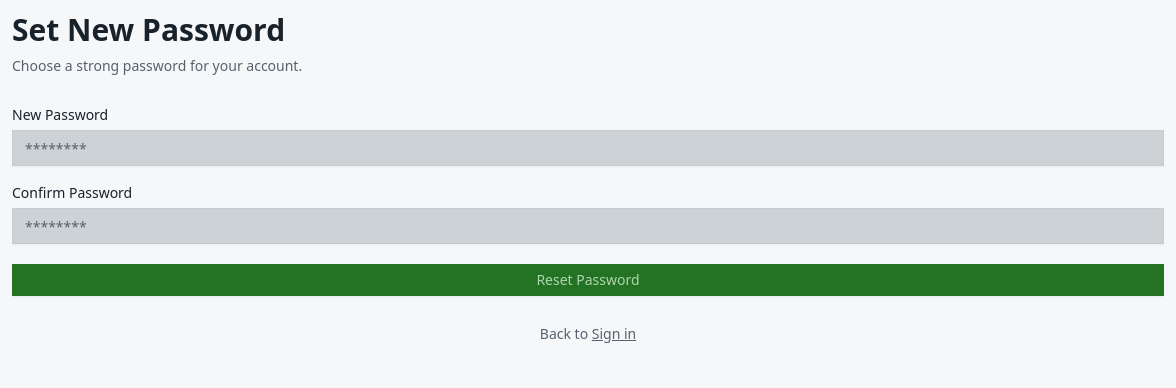
Scenario: ResetPasswordPage › prevents submit when the password is missing a number
This screenshot has width=1176, height=388.
Type "MissingNumber!" into the password field labelled "New Password" at (588, 148), box 12,130 -> 1164,166
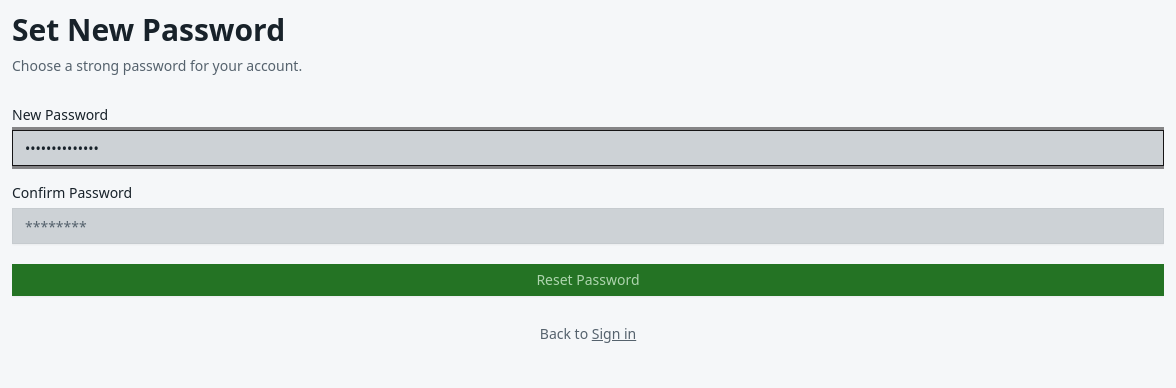
Type "MissingNumber!" into the password field labelled "Confirm Password" at (588, 226), box 12,208 -> 1164,244
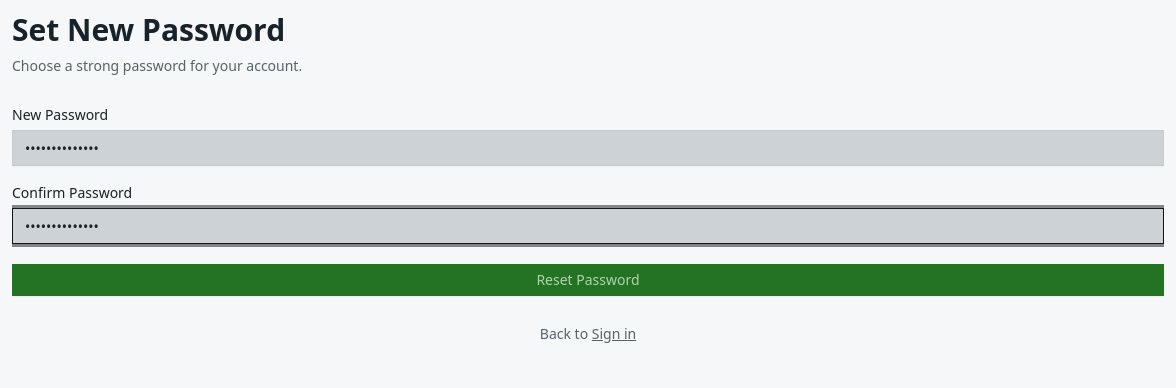
Click the button "Reset Password" at (588, 280), box 12,264 -> 1164,296
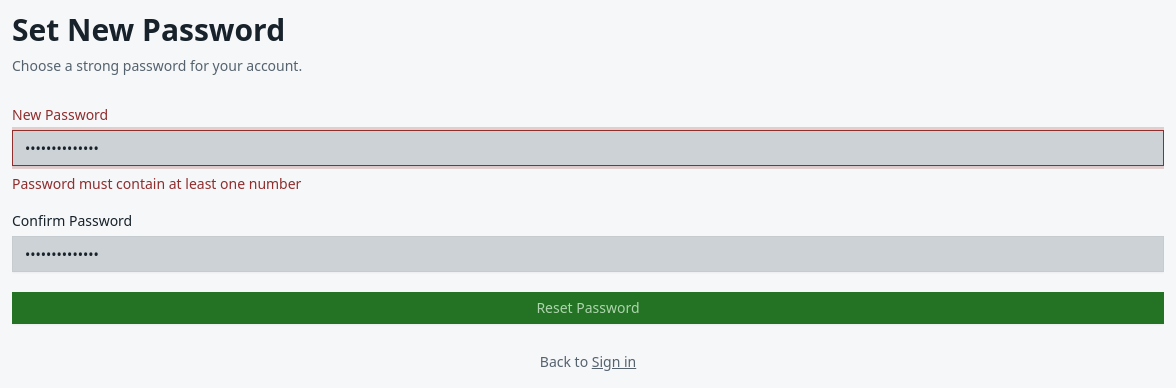
Now the text "Password must contain at least one number" is shown, box 12,174 -> 301,193
